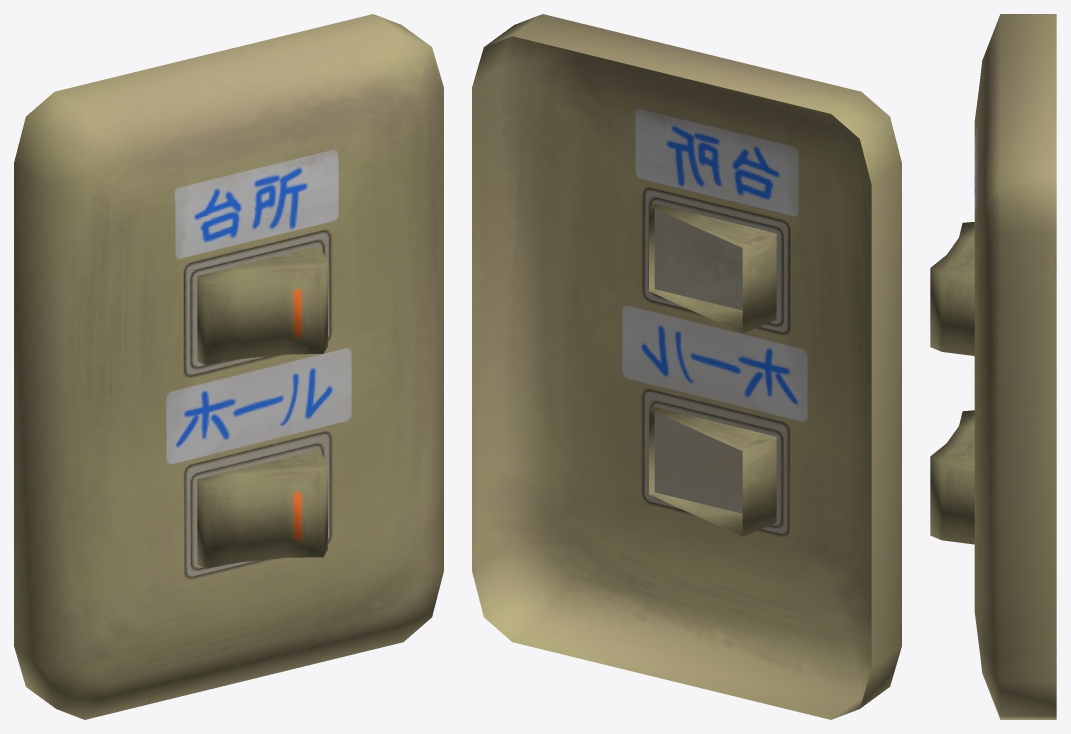
The model's file is LightSwitch.glb.
3 renders of one model, left to right at view 1: azimuth 30°, elevation 25°; view 2: azimuth 150°, elevation 25°; view 3: azimuth 270°, elevation 25°, orthographic. The views are drawn at different scales.
Visible parts, largest first — view 1: Base, Switch.001, Switch; view 2: Base, Switch.001, Switch; view 3: Base, Switch, Switch.001.
Boxes of the visible parts, x1,y1,x2,y2 form: Base: [14, 14, 443, 719]; Switch.001: [197, 449, 327, 568]; Switch: [197, 246, 327, 365]; Base: [472, 14, 901, 719]; Switch.001: [649, 407, 776, 536]; Switch: [649, 203, 776, 333]; Base: [974, 14, 1056, 719]; Switch: [930, 222, 974, 355]; Switch.001: [930, 410, 974, 544].
Bounding box in the file's own units: 0.4371 × 0.6333 × 0.129.
1 material, 1 textured.
